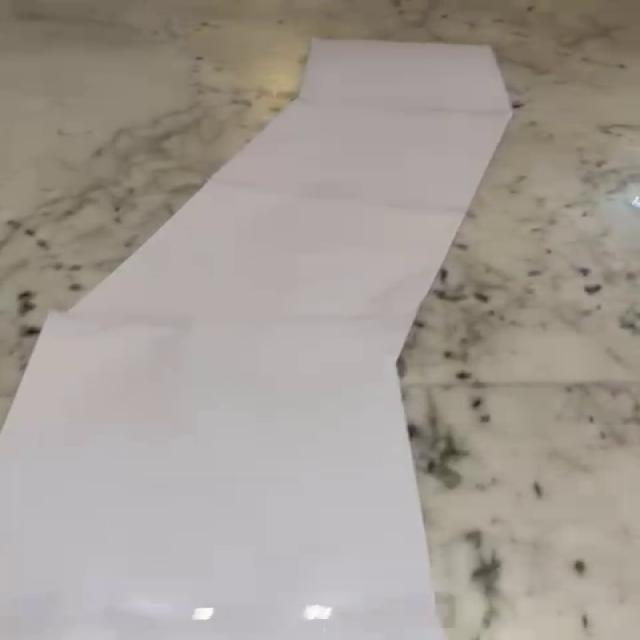road: (3, 40, 512, 640)
